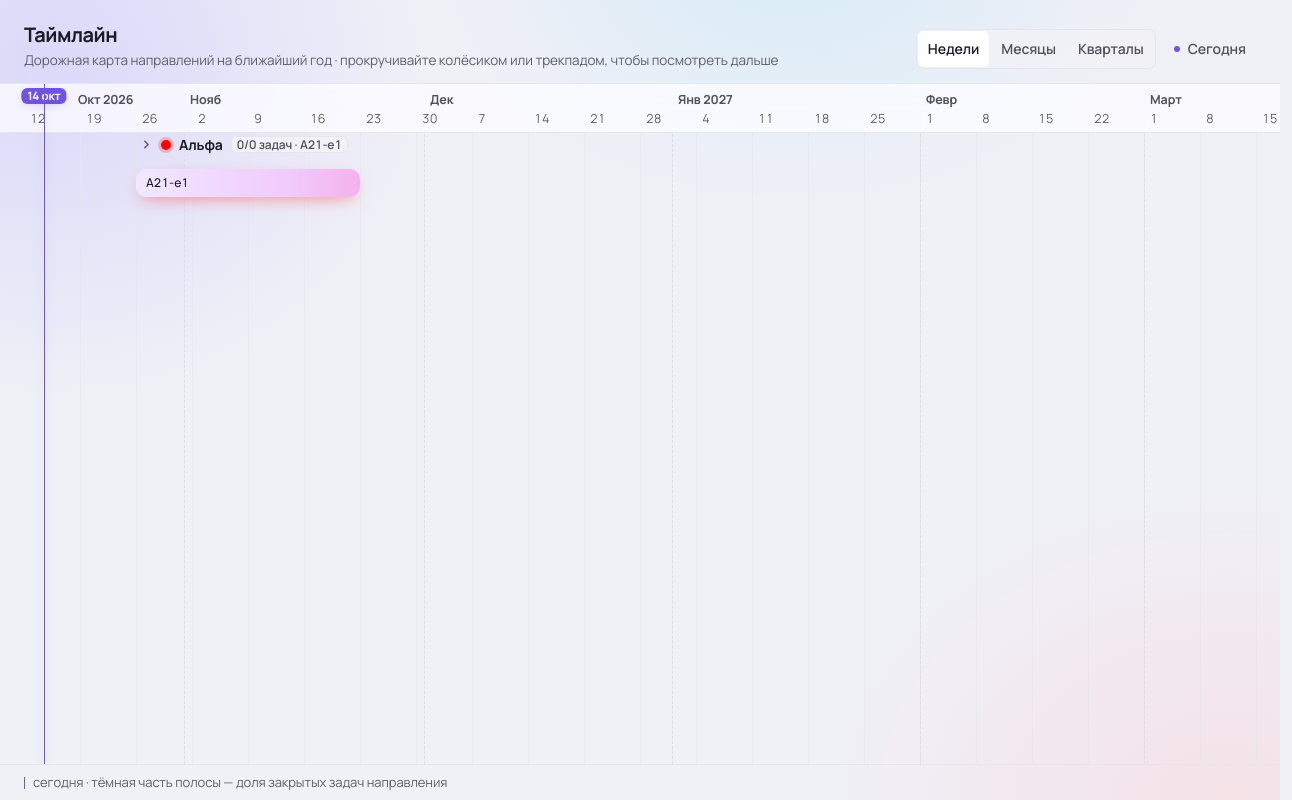
Test: Timeline при частичном сторе › узел без задач в раскрытом виде: сообщение, а не пустота; свёртка убирает список
Click the button "Альфа 0/0 задач · A21-e1": point(246, 145) [136, 133, 356, 157]
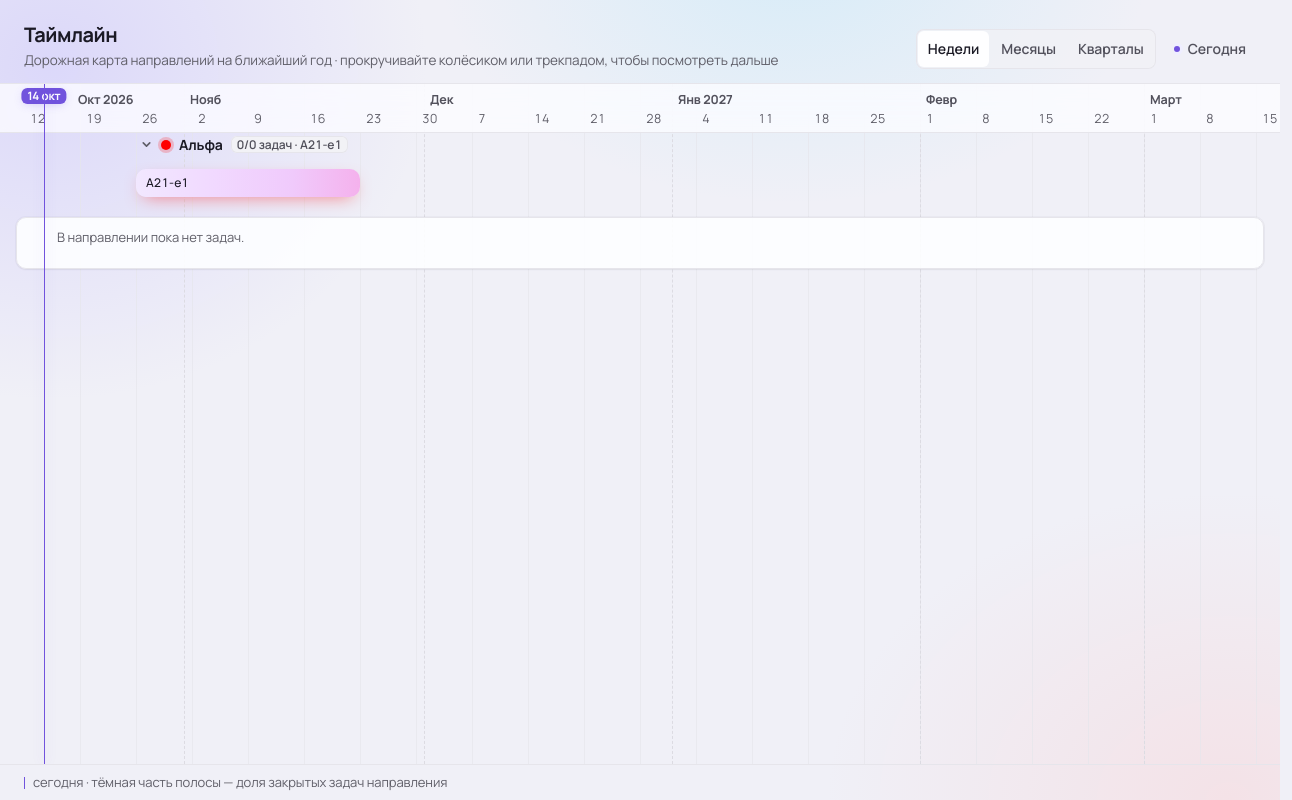
Result: the text "В направлении пока нет задач." is shown at [57, 228, 244, 246]
Click the button "Альфа 0/0 задач · A21-e1": point(246, 145) [136, 133, 356, 157]
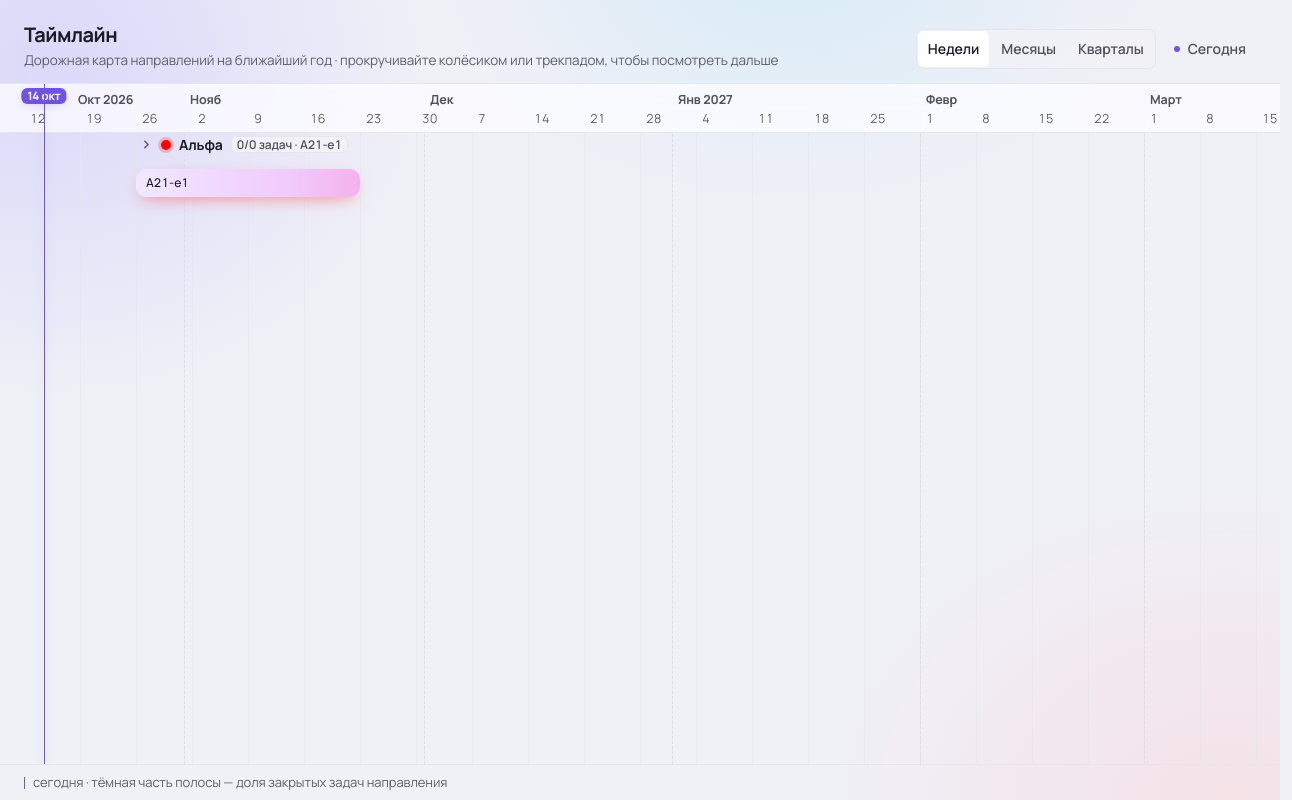
Result: the text "В направлении пока нет задач." is gone
